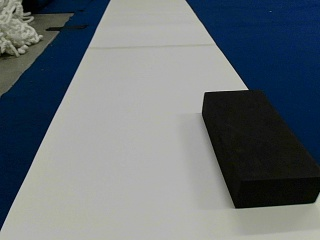block: (201, 91, 318, 209)
